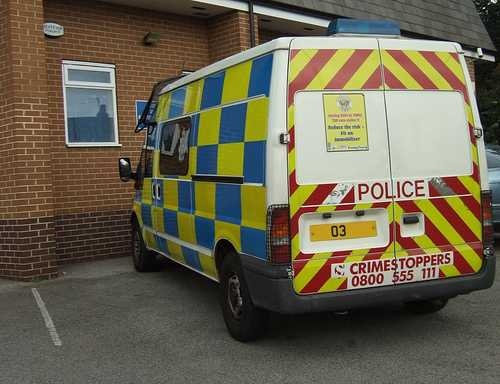Ambulance: (104, 55, 493, 307)
